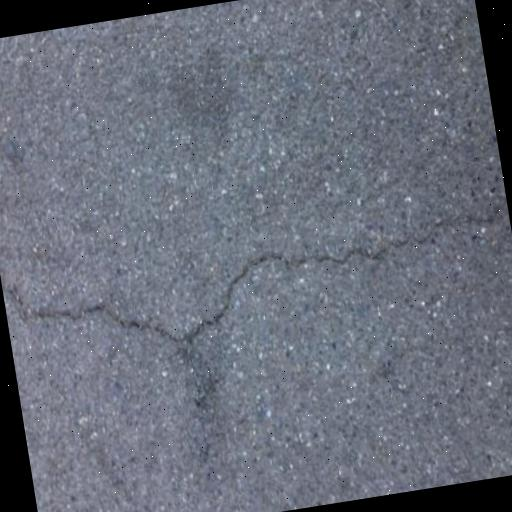spalling: (10, 193, 498, 356)
